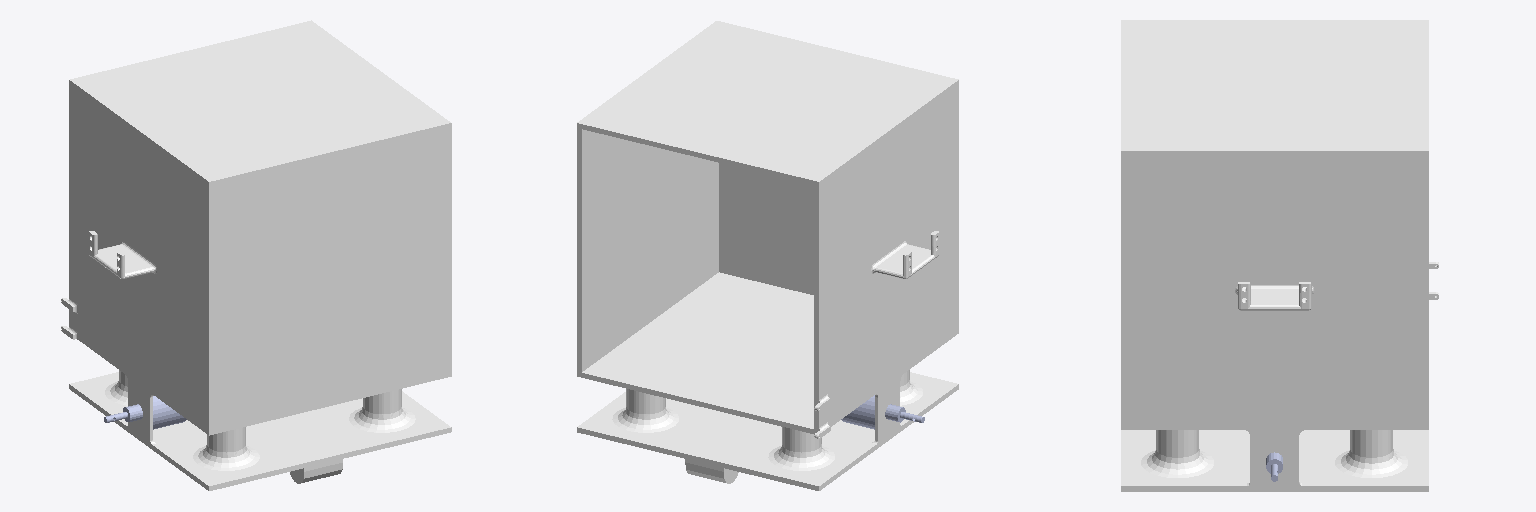
URDF robot description (smart_dustbin):
<?xml version="1.0" encoding="utf-8"?>
<!-- This URDF was automatically created by SolidWorks to URDF Exporter! Originally created by [author] ([email redacted]) 
     Commit Version: 1.6.0-4-g7f85cfe  Build Version: 1.6.7995.38578
     For more information, please see http://wiki.ros.org/sw_urdf_exporter -->
<robot
  name="smart_dustbin">
  <link
    name="base_link">
    <inertial>
      <origin
        xyz="-5.47325536131747E-05 0.159275413739069 0.0163784793918969"
        rpy="0 0 0" />
      <mass
        value="2.19012038621623" />
      <inertia
        ixx="0.0407444075564189"
        ixy="-7.27274169066963E-06"
        ixz="-1.6528925485422E-05"
        iyy="0.0318496083183243"
        iyz="-0.00172436668524348"
        izz="0.0445151511847297" />
    </inertial>
    <visual>
      <origin
        xyz="0 0 0"
        rpy="0 0 0" />
      <geometry>
        <mesh
          filename="package://smart_dustbin/meshes/base_link.STL" />
      </geometry>
      <material
        name="">
        <color
          rgba="1 1 1 1" />
      </material>
    </visual>
    <collision>
      <origin
        xyz="0 0 0"
        rpy="0 0 0" />
      <geometry>
        <mesh
          filename="package://smart_dustbin/meshes/base_link.STL" />
      </geometry>
    </collision>
  </link>
  <link
    name="motor_left">
    <inertial>
      <origin
        xyz="-6.2292834923247E-18 -6.93889390390723E-18 -0.0204723705722071"
        rpy="0 0 0" />
      <mass
        value="0.0432361688950295" />
      <inertia
        ixx="1.01015601532511E-05"
        ixy="6.11906676222116E-37"
        ixz="-1.51999946663351E-22"
        iyy="1.01015601532511E-05"
        iyz="7.40676126298407E-22"
        izz="7.05178439291058E-06" />
    </inertial>
    <visual>
      <origin
        xyz="0 0 0"
        rpy="0 0 0" />
      <geometry>
        <mesh
          filename="package://smart_dustbin/meshes/motor_left.STL" />
      </geometry>
      <material
        name="">
        <color
          rgba="0.792156862745098 0.819607843137255 0.933333333333333 1" />
      </material>
    </visual>
    <collision>
      <origin
        xyz="0 0 0"
        rpy="0 0 0" />
      <geometry>
        <mesh
          filename="package://smart_dustbin/meshes/motor_left.STL" />
      </geometry>
    </collision>
  </link>
  <joint
    name="motor_left"
    type="fixed">
    <origin
      xyz="-0.084 0 0.055"
      rpy="-1.5708 0 -1.5708" />
    <parent
      link="base_link" />
    <child
      link="motor_left" />
    <axis
      xyz="0 0 0" />
  </joint>
  <link
    name="motor_left_shaft">
    <inertial>
      <origin
        xyz="4.17290262066938E-09 -3.92354435746478E-09 0.0127773294807924"
        rpy="0 0 0" />
      <mass
        value="0.000665825854491915" />
      <inertia
        ixx="3.73848139950382E-08"
        ixy="5.2066537864635E-14"
        ixz="7.61121488926956E-15"
        iyy="3.74781589102446E-08"
        iyz="5.82788868539944E-15"
        izz="3.04291635385214E-09" />
    </inertial>
    <visual>
      <origin
        xyz="0 0 0"
        rpy="0 0 0" />
      <geometry>
        <mesh
          filename="package://smart_dustbin/meshes/motor_left_shaft.STL" />
      </geometry>
      <material
        name="">
        <color
          rgba="0.792156862745098 0.819607843137255 0.933333333333333 1" />
      </material>
    </visual>
    <collision>
      <origin
        xyz="0 0 0"
        rpy="0 0 0" />
      <geometry>
        <mesh
          filename="package://smart_dustbin/meshes/motor_left_shaft.STL" />
      </geometry>
    </collision>
  </link>
  <joint
    name="motor_left_shaft"
    type="fixed">
    <origin
      xyz="0 0 -0.076"
      rpy="0 0 1.4157" />
    <parent
      link="motor_left" />
    <child
      link="motor_left_shaft" />
    <axis
      xyz="0 0 1" />
  </joint>
  <link
    name="motor_right">
    <inertial>
      <origin
        xyz="-1.04083408558608E-17 6.93889390390723E-18 0.0204723705722071"
        rpy="0 0 0" />
      <mass
        value="0.0432361688950295" />
      <inertia
        ixx="1.01015601532511E-05"
        ixy="4.2351647362715E-22"
        ixz="1.02889997276823E-23"
        iyy="1.01015601532511E-05"
        iyz="-8.5053208612629E-22"
        izz="7.05178439291058E-06" />
    </inertial>
    <visual>
      <origin
        xyz="0 0 0"
        rpy="0 0 0" />
      <geometry>
        <mesh
          filename="package://smart_dustbin/meshes/motor_right.STL" />
      </geometry>
      <material
        name="">
        <color
          rgba="0.792156862745098 0.819607843137255 0.933333333333333 1" />
      </material>
    </visual>
    <collision>
      <origin
        xyz="0 0 0"
        rpy="0 0 0" />
      <geometry>
        <mesh
          filename="package://smart_dustbin/meshes/motor_right.STL" />
      </geometry>
    </collision>
  </link>
  <joint
    name="motor_right"
    type="fixed">
    <origin
      xyz="0.0840000000000001 0 0.055"
      rpy="1.5707963267949 -0.385130533458655 1.5707963267949" />
    <parent
      link="base_link" />
    <child
      link="motor_right" />
    <axis
      xyz="0 0 0" />
  </joint>
  <link
    name="motor_right_shaft">
    <inertial>
      <origin
        xyz="4.1729026067916E-09 -3.92354435399533E-09 0.0127773294807924"
        rpy="0 0 0" />
      <mass
        value="0.000665825854491914" />
      <inertia
        ixx="3.73848139950382E-08"
        ixy="5.20665378675301E-14"
        ixz="7.61121487532514E-15"
        iyy="3.74781589102446E-08"
        iyz="5.82788866916462E-15"
        izz="3.04291635385213E-09" />
    </inertial>
    <visual>
      <origin
        xyz="0 0 0"
        rpy="0 0 0" />
      <geometry>
        <mesh
          filename="package://smart_dustbin/meshes/motor_right_shaft.STL" />
      </geometry>
      <material
        name="">
        <color
          rgba="0.792156862745098 0.819607843137255 0.933333333333333 1" />
      </material>
    </visual>
    <collision>
      <origin
        xyz="0 0 0"
        rpy="0 0 0" />
      <geometry>
        <mesh
          filename="package://smart_dustbin/meshes/motor_right_shaft.STL" />
      </geometry>
    </collision>
  </link>
  <joint
    name="motor_right_shaft"
    type="fixed">
    <origin
      xyz="0 0 0.076"
      rpy="3.1416 0 -1.4157" />
    <parent
      link="motor_right" />
    <child
      link="motor_right_shaft" />
    <axis
      xyz="0 0 1" />
  </joint>
</robot>

--- Render facts (derived) ---
3 views of the same robot in one strip: view 1: azimuth 30°, elevation 25°; view 2: azimuth 150°, elevation 25°; view 3: azimuth 270°, elevation 25° (orthographic).
Robot: smart_dustbin — 5 links, 4 joints (4 fixed); root link base_link; default pose: every joint at zero.
Visible links, largest first — view 1: base_link, motor_left; view 2: base_link, motor_left; view 3: base_link.
Link boxes in pixels (x1,y1,x2,y2): base_link: (61,20,451,490); motor_left: (123,396,186,429); base_link: (577,21,958,490); motor_left: (841,395,905,429); base_link: (1121,20,1438,491).
Bounding box of the posed robot: 0.3208 × 0.2586 × 0.3316 m (x, y, z).
5 mesh visuals loaded from 5 distinct referenced files (5 binary STL).